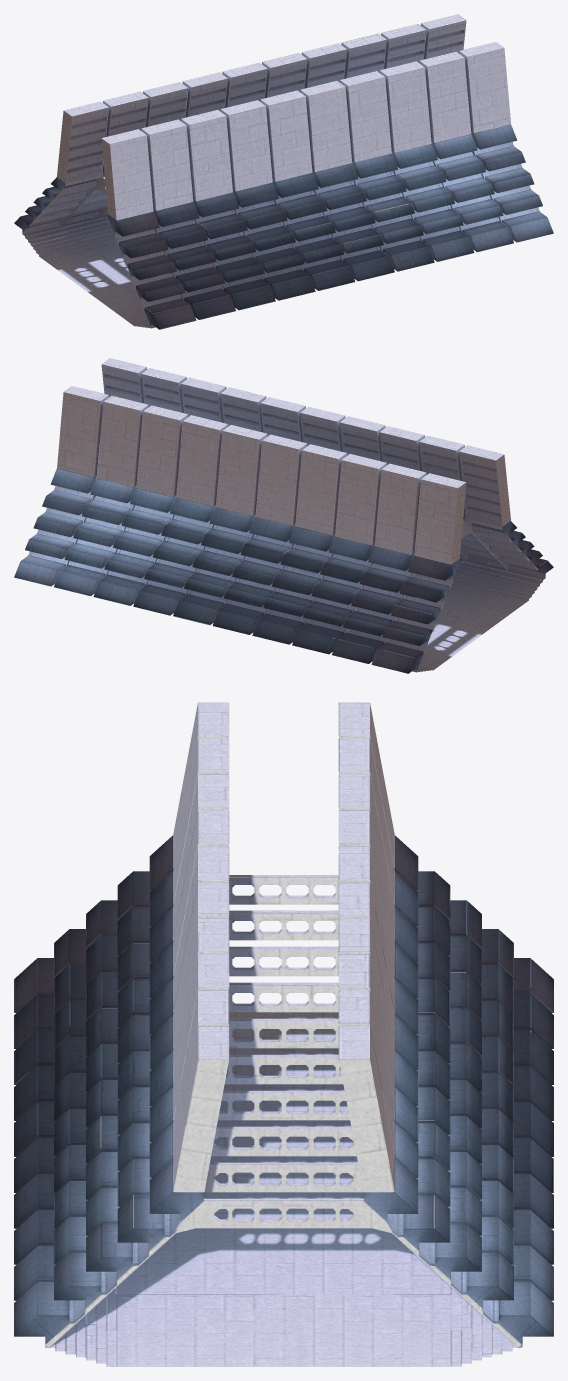
Rendered from brutalist_interior_vr_room_baked.glb.
The picture shows the model from 3 angles, top to bottom: view 1: azimuth 30°, elevation 25°; view 2: azimuth 150°, elevation 25°; view 3: azimuth 270°, elevation 25°; orthographic projection. The views are drawn at different scales.
Visible parts, largest first — view 1: Cube_0; view 2: Cube_0; view 3: Cube_0.
Part boxes in pixels (x1,y1,x2,y2): Cube_0: (14, 14, 553, 329); Cube_0: (14, 358, 553, 673); Cube_0: (14, 702, 553, 1366).
Size of what is drawn, in the model's own units: 10.7 by 4.22 by 6.79.
1 material, 1 textured.
